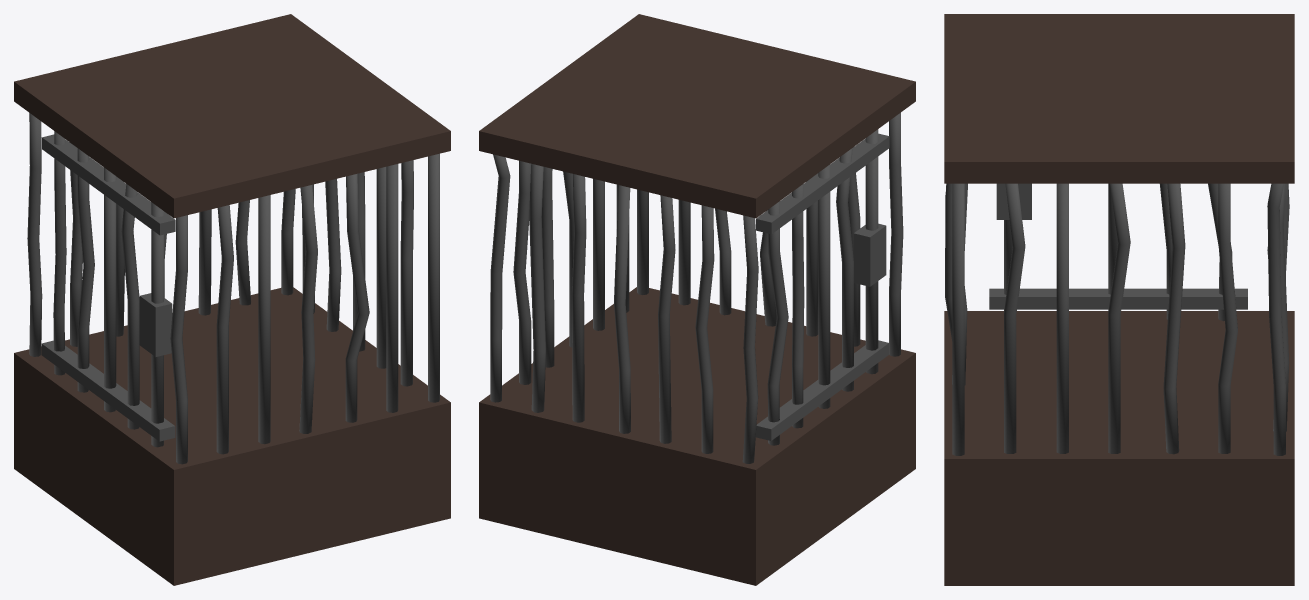
File: Cage.fbx
3 renders of one model, left to right at view 1: azimuth 30°, elevation 25°; view 2: azimuth 150°, elevation 25°; view 3: azimuth 270°, elevation 25°, orthographic. The views are drawn at different scales.
Visible parts, largest first — view 1: Floor.001; view 2: Floor.001; view 3: Floor.001.
Part boxes in pixels (x1=…): Floor.001: x1=14, y1=14, x2=450, y2=585; Floor.001: x1=479, y1=14, x2=915, y2=585; Floor.001: x1=944, y1=14, x2=1294, y2=585.
Size of the model in its own units: 670 by 896 by 670.
